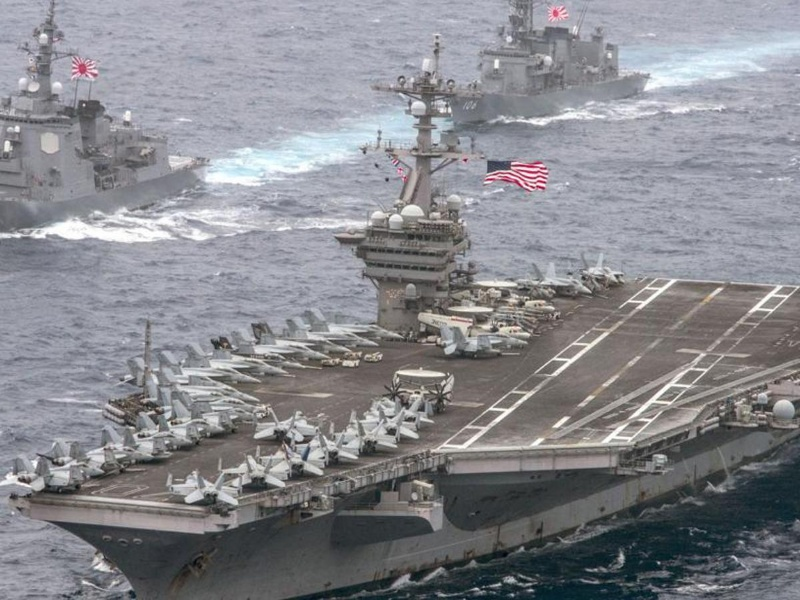carrier: (47, 238, 793, 588)
cruise: (5, 23, 204, 231), (452, 2, 653, 119)
